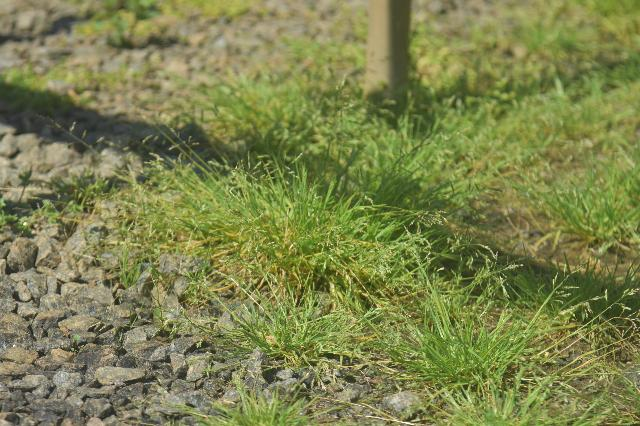MalezaMontesDelPlata: (98, 138, 459, 301), (358, 263, 545, 396), (515, 146, 640, 253), (134, 372, 366, 426), (217, 298, 366, 373), (548, 262, 640, 340)
